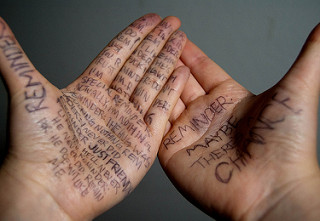palm: (176, 79, 302, 203), (18, 85, 148, 203)
